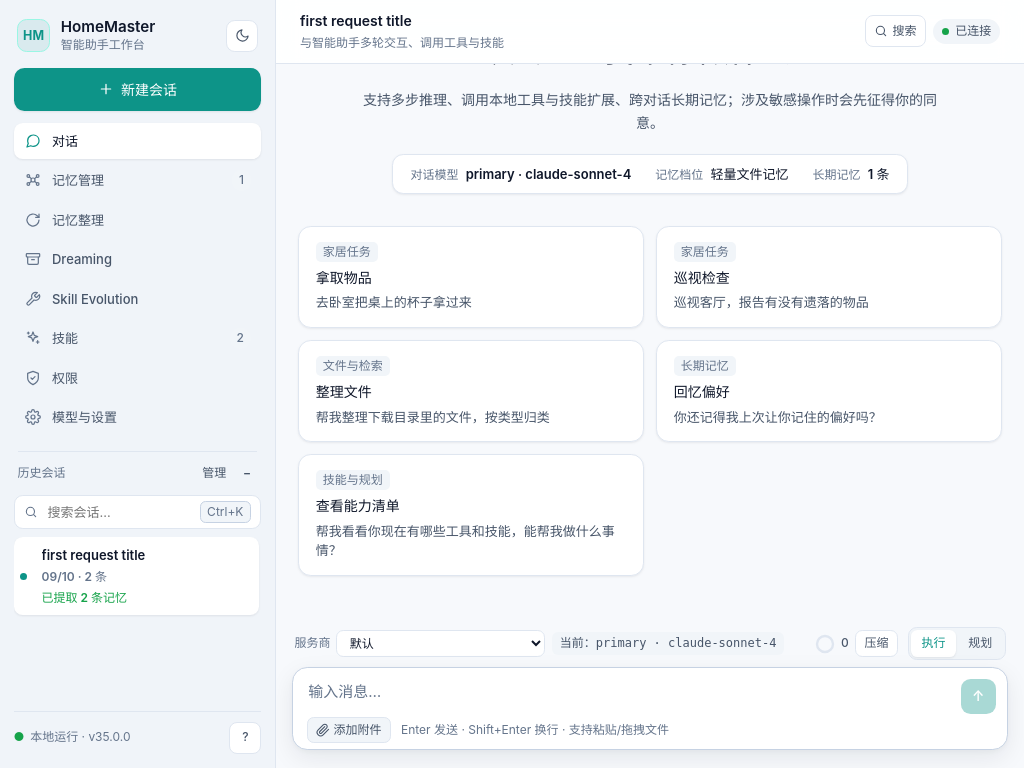
Test case: App memory navigation › switches to memory view and collapses history without changing the session
(page scrolled)
Expected: the button with aria-label "打开会话 first request title" is shown, [31,537,259,615]
Click the button named "折叠历史会话".
click(247, 473)  # box [236,461,257,486]
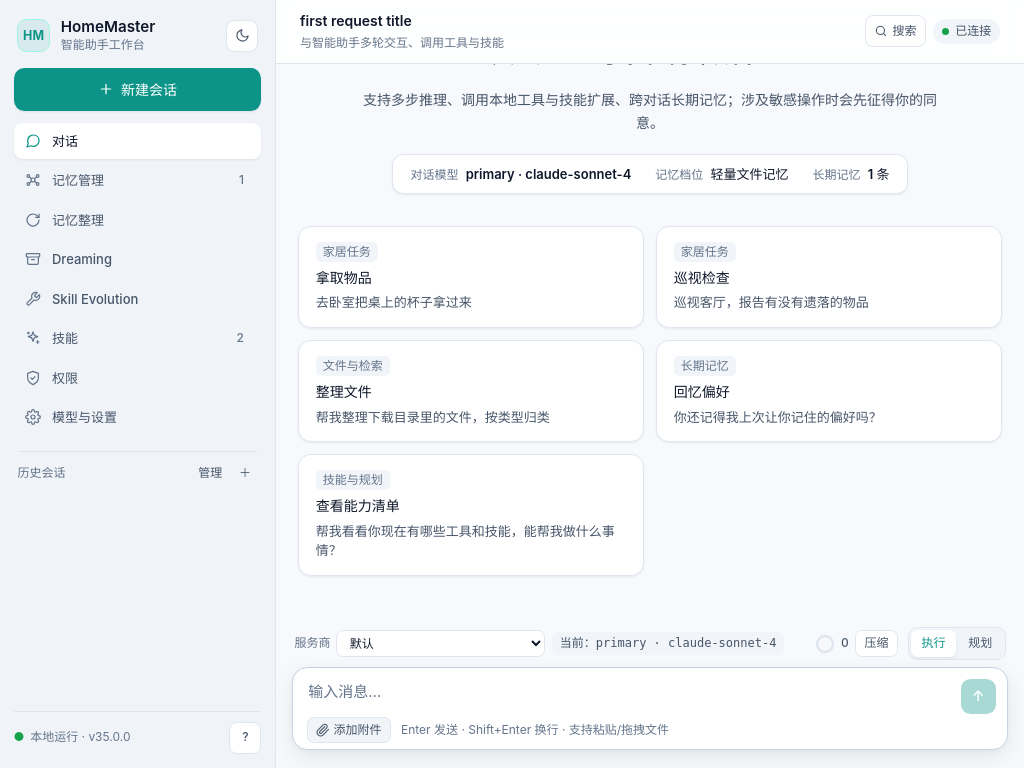
Click the button "记忆管理 1".
click(138, 180)  # box [14,162,261,199]
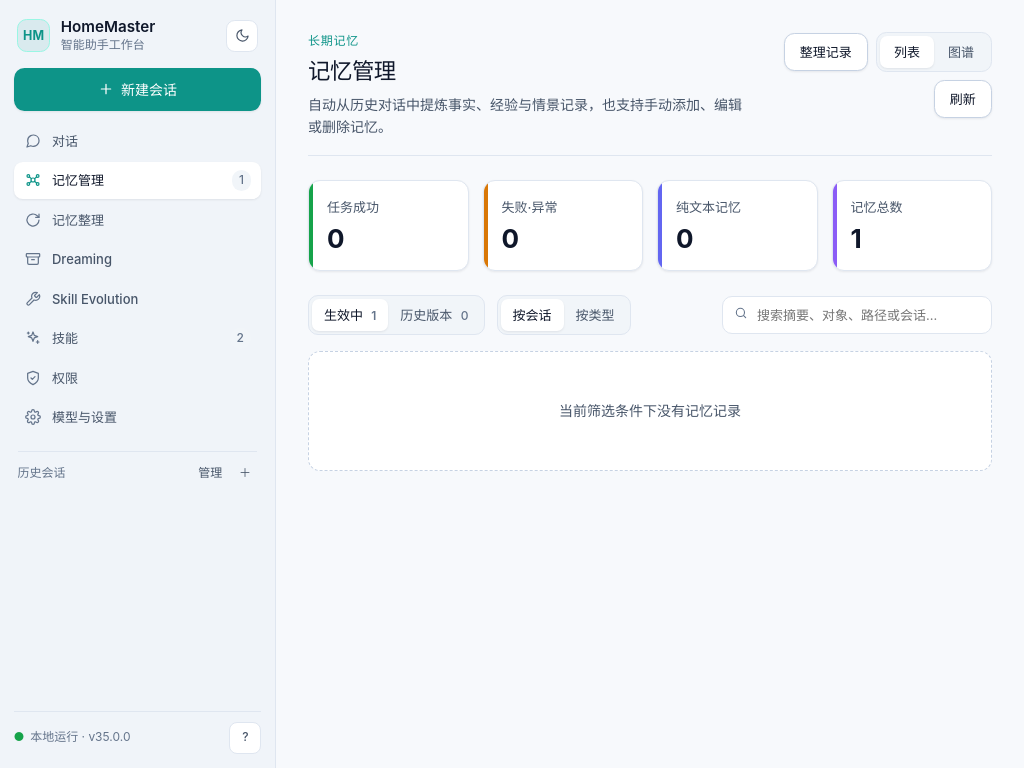
Now the heading "记忆管理" is shown, box [308,57,396,84]
Now the text "记忆总数" is shown, box [850,199,902,215]
